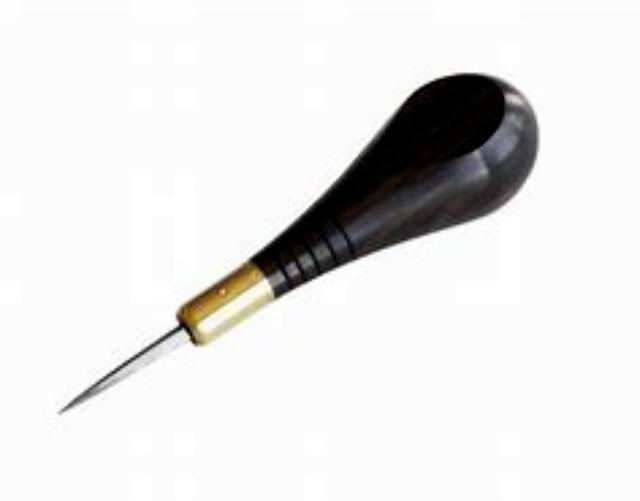ice pick: (60, 68, 550, 420)
